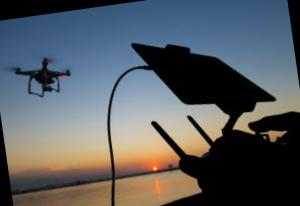drone: (6, 48, 79, 100)
